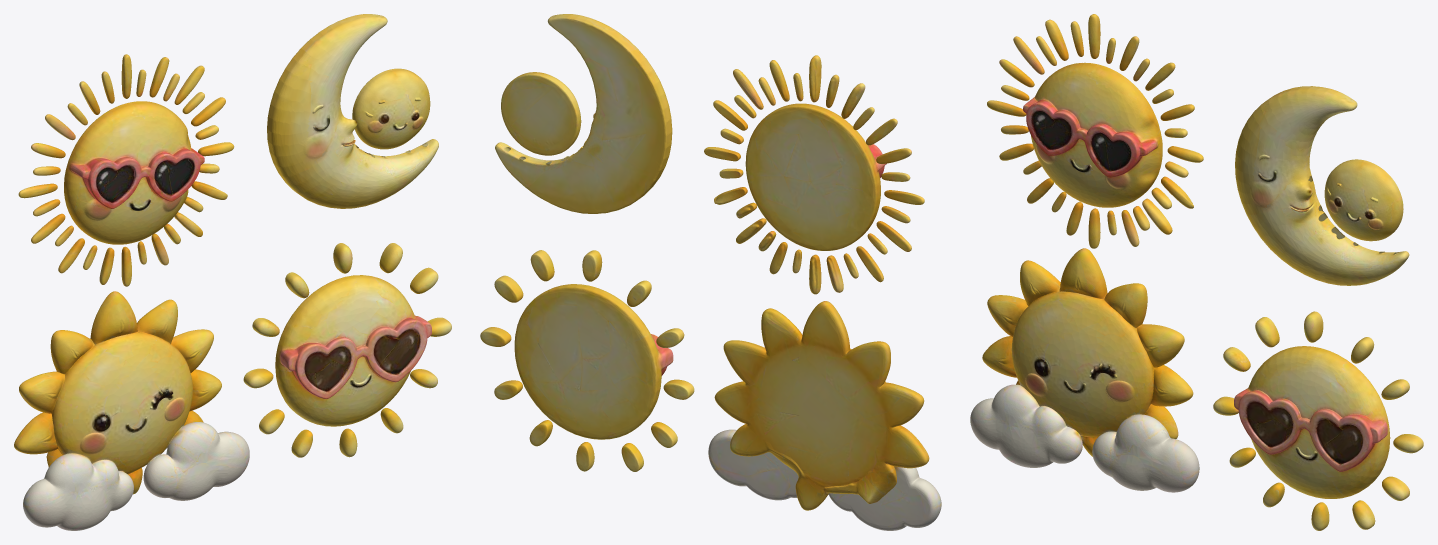
The picture shows the model from 3 angles, left to right: view 1: azimuth 30°, elevation 25°; view 2: azimuth 150°, elevation 25°; view 3: azimuth 330°, elevation 25°; orthographic projection. The views are drawn at different scales.
Visible parts, largest first — view 1: Mesh 1, Mesh 2, Mesh 35, Mesh 36; view 2: Mesh 1, Mesh 2, Mesh 35, Mesh 36; view 3: Mesh 1, Mesh 2, Mesh 35, Mesh 36.
Part boxes in pixels (left/top/right/bottom): Mesh 1: left=14, top=291, right=249, bottom=530; Mesh 2: left=18, top=54, right=234, bottom=286; Mesh 35: left=243, top=243, right=451, bottom=457; Mesh 36: left=267, top=14, right=438, bottom=208; Mesh 1: left=708, top=301, right=941, bottom=530; Mesh 2: left=704, top=55, right=924, bottom=294; Mesh 35: left=480, top=250, right=694, bottom=471; Mesh 36: left=495, top=14, right=672, bottom=213; Mesh 1: left=970, top=248, right=1199, bottom=492; Mesh 2: left=987, top=14, right=1203, bottom=248; Mesh 35: left=1213, top=311, right=1423, bottom=530; Mesh 36: left=1235, top=86, right=1409, bottom=285.
Size of the model in its own units: 1.89 by 1.9 by 0.1831.
Materials: 1 (1 with a texture image).
